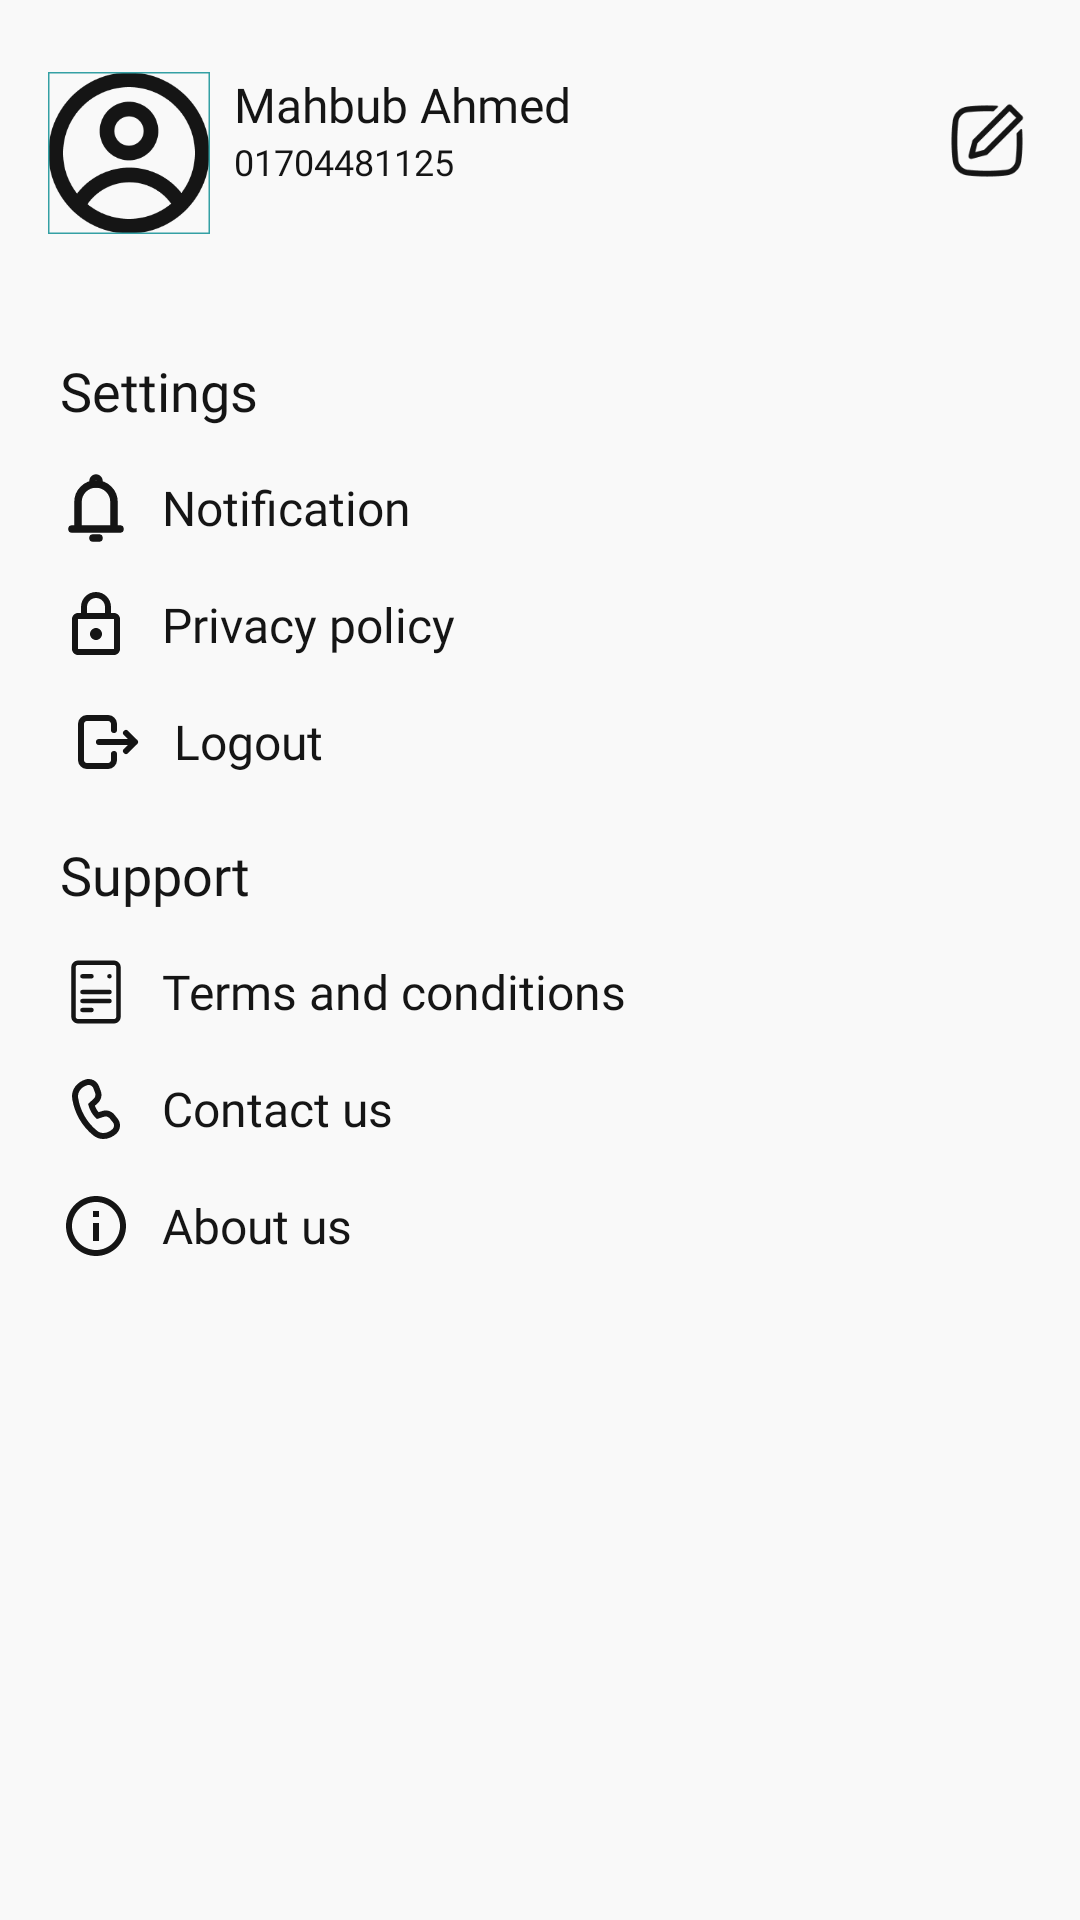

Where to tap for icons on this 1080w x 1920h app screen, as (x=x, y=y):
editprofileicon: (x=987, y=140)
profileicon: (x=129, y=153)
